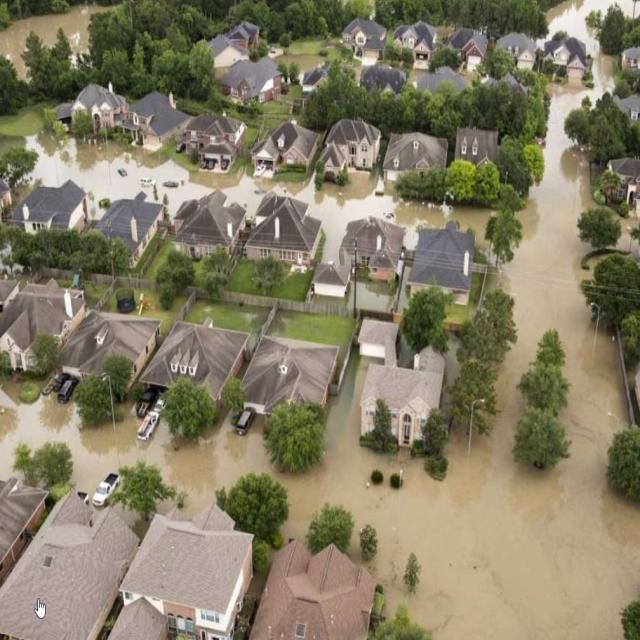flood: (0, 0, 640, 640), (28, 136, 492, 258), (0, 5, 113, 78), (616, 219, 640, 258)
house: (0, 492, 155, 640), (116, 506, 261, 640), (276, 542, 374, 640), (360, 352, 444, 458), (0, 274, 79, 378), (58, 316, 158, 390), (251, 334, 340, 406), (154, 322, 243, 394), (248, 186, 316, 269), (0, 479, 49, 594), (412, 224, 480, 304), (174, 190, 242, 262), (98, 192, 160, 262), (21, 180, 90, 241), (322, 116, 380, 186), (342, 215, 402, 282), (184, 113, 247, 175), (68, 86, 129, 146), (455, 124, 502, 187), (229, 60, 287, 105), (604, 157, 639, 211), (344, 16, 382, 54), (404, 23, 434, 68), (208, 36, 246, 68), (508, 34, 538, 68), (620, 42, 640, 78), (464, 30, 484, 66)
